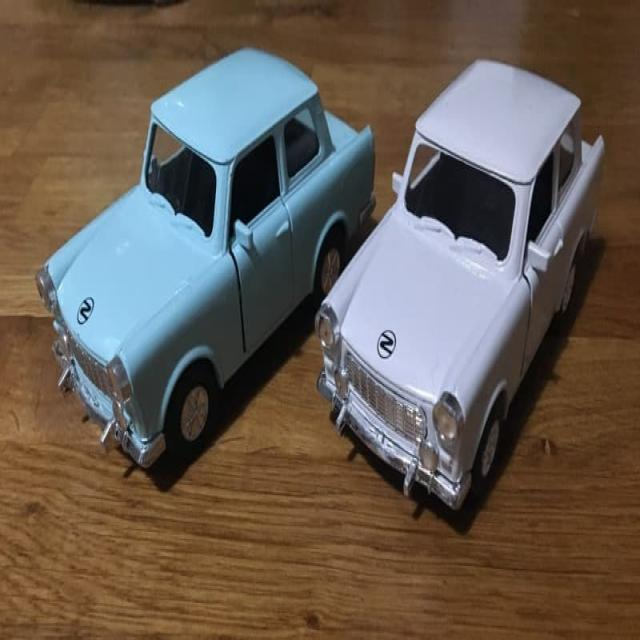Car: (35, 44, 378, 469), (314, 55, 606, 512)
